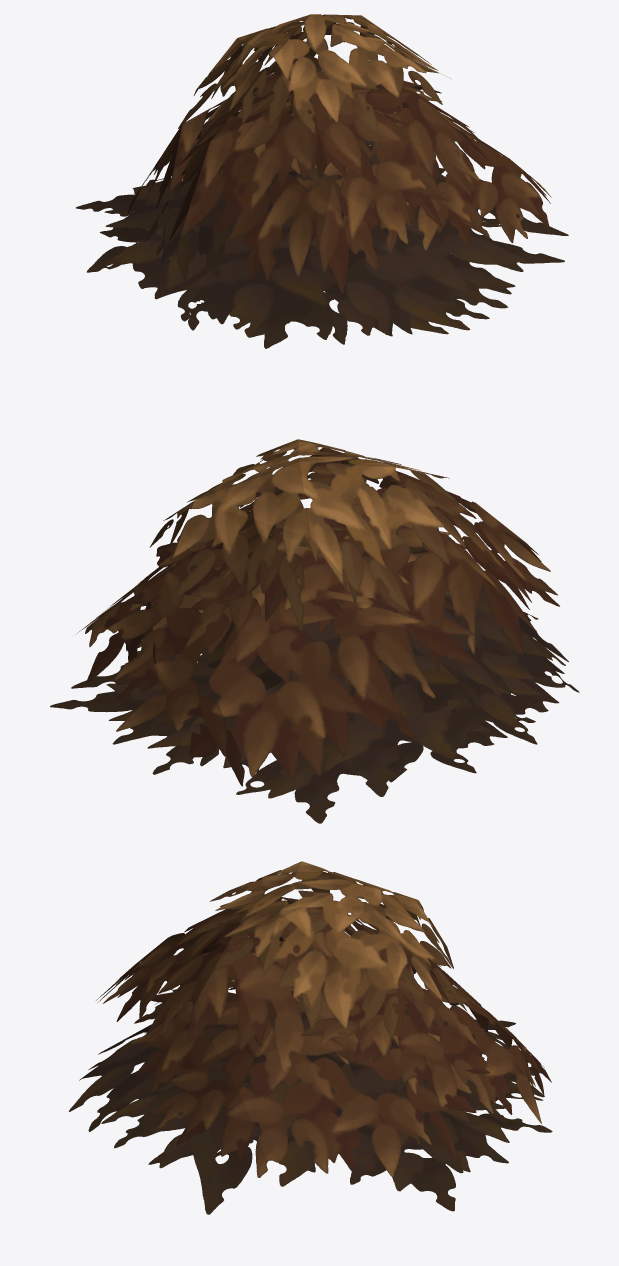
Rendered from bush_dead_03.fbx.
3 renders of one model, top to bottom at view 1: azimuth 30°, elevation 25°; view 2: azimuth 150°, elevation 25°; view 3: azimuth 270°, elevation 25°, orthographic. The views are drawn at different scales.
Parts seen in each view (by area): view 1: obj0.243; view 2: obj0.243; view 3: obj0.243.
Boxes of the visible parts, x1=… form: obj0.243: x1=76, y1=14, x2=568, y2=348; obj0.243: x1=50, y1=439, x2=579, y2=823; obj0.243: x1=69, y1=861, x2=552, y2=1214.
Bounding box in the file's own units: 5.83 × 2.76 × 5.74.
